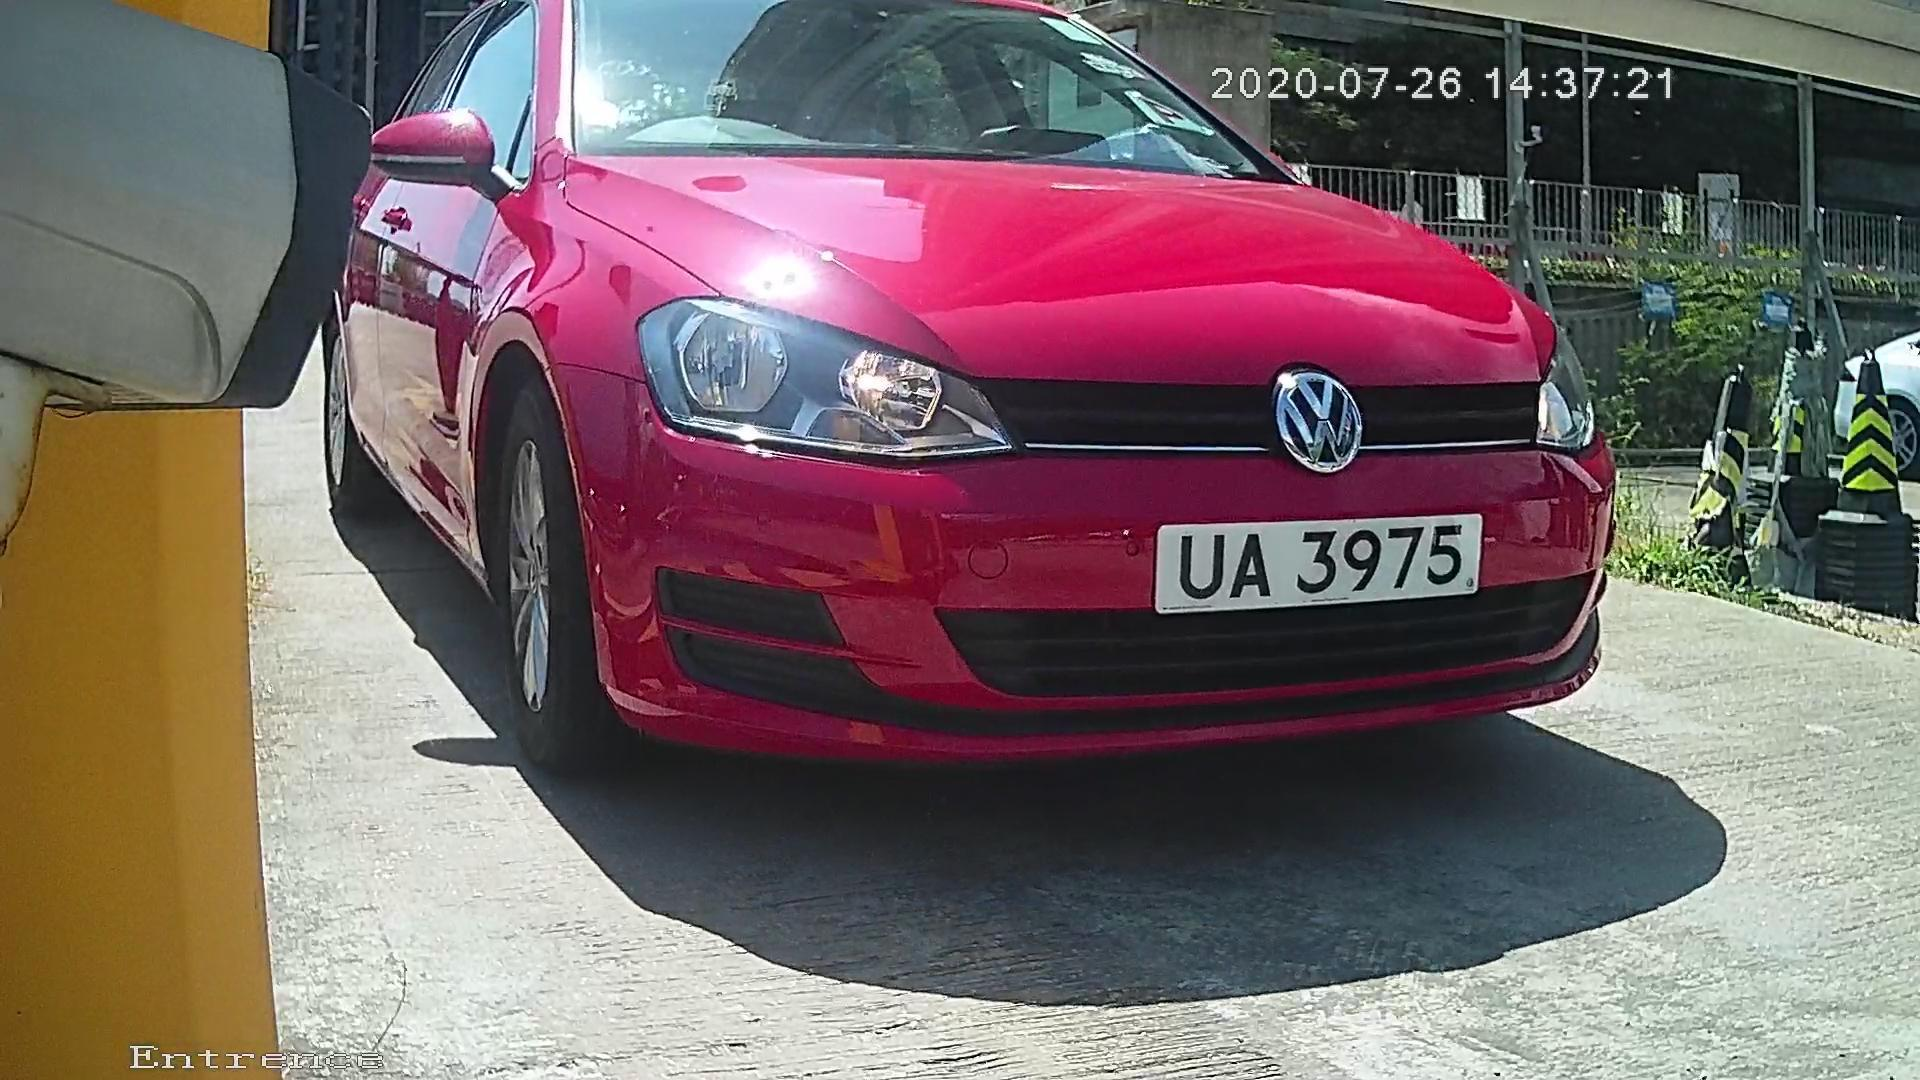privatecar: (309, 29, 1741, 855)
